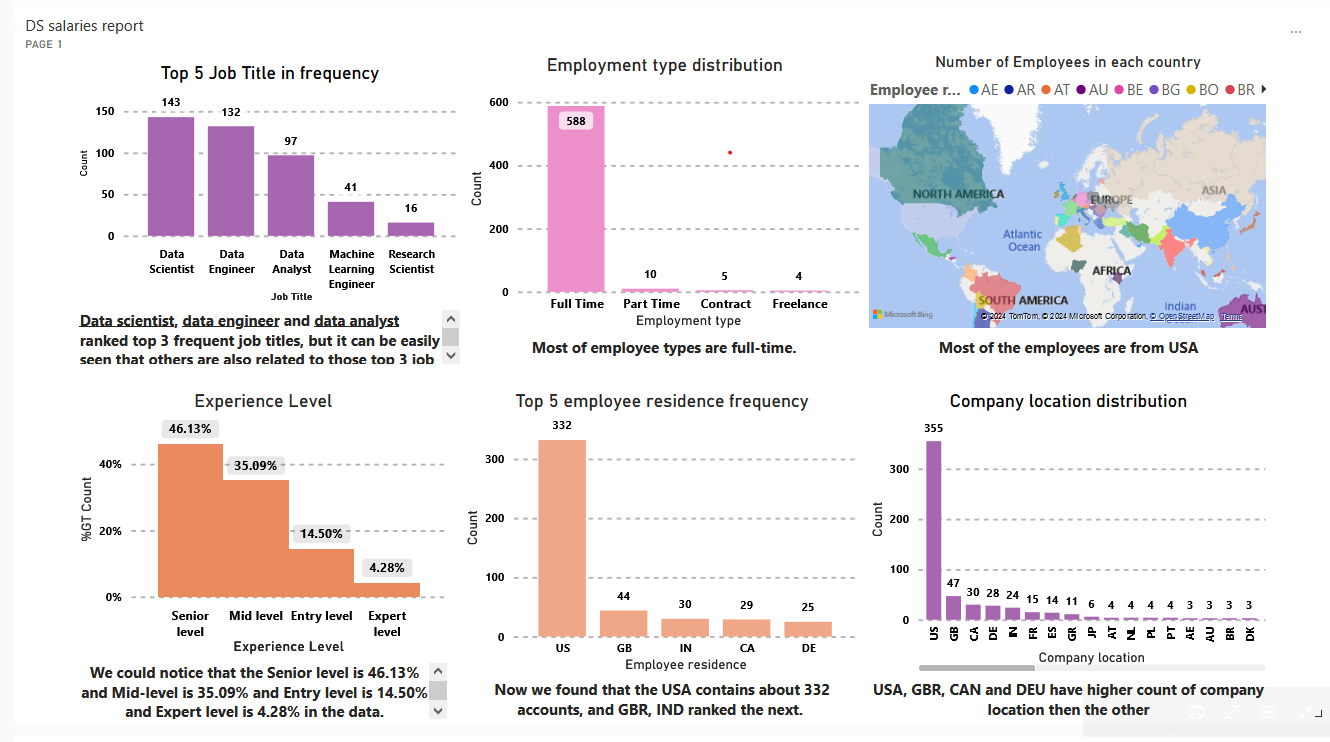

What the dashboard file says about the page in this screenshot:
{"tool":"powerbi","page":{"name":"Page 1","canvas":[1280,720],"ordinal":0},"visuals":[{"type":"clusteredColumnChart","title":"Experience Level","fields":{"Category":["ds_salaries.experience_level"],"Y":["CountNonNull(ds_salaries.experience_level)"]},"box":[0,360,403.2,289.4],"z":0},{"type":"lineClusteredColumnComboChart","title":"Top 5 Job Title in frequency","fields":{"Category":["ds_salaries.job_title"],"Y":["CountNonNull(ds_salaries.job_title)"]},"box":[0,8.6,417.6,263.5],"z":1000},{"type":"lineClusteredColumnComboChart","title":"Employment type distribution","fields":{"Category":["ds_salaries.employment_type"],"Y":["CountNonNull(ds_salaries.employment_type)"]},"box":[417.6,0,427.7,301],"z":2000},{"type":"filledMap","title":"Number of Employees in each country","fields":{"Category":["DS Salaries.employee_residence"],"Series":["DS Salaries.employee_residence"]},"box":[845.3,0,434.9,301],"z":3000},{"type":"lineClusteredColumnComboChart","title":"Top 5 employee residence frequency","fields":{"Category":["ds_salaries.employee_residence"],"Y":["CountNonNull(ds_salaries.employee_residence)"]},"box":[413.3,360,430.6,308.2],"z":4000},{"type":"clusteredColumnChart","title":"Company location distribution","fields":{"Category":["ds_salaries.company_location"],"Y":["CountNonNull(ds_salaries.company_location)"]},"box":[846.7,360,433.4,308.2],"z":5000},{"type":"textbox","box":[0,649.4,403.2,70.6],"z":6000},{"type":"textbox","box":[0,263.5,417.6,76.3],"z":7000},{"type":"textbox","box":[417.6,301,426.2,38.9],"z":8000},{"type":"textbox","box":[413.3,668.2,430.6,51.8],"z":9000},{"type":"textbox","box":[846.7,301,433.4,40.3],"z":10000},{"type":"textbox","box":[846.7,668.2,433.4,51.8],"z":11000}]}

Visuals, with their boxes on the page's 1280x720 design canvas (x1, y1, x2, y2). These are canvas units, not pixel positions in the 1330x742 screenshot, which may show the page scaled, cropped or inside an application window:
"Experience Level" clusteredColumnChart: x1=0 y1=360 x2=403 y2=649
"Top 5 Job Title in frequency" lineClusteredColumnComboChart: x1=0 y1=9 x2=418 y2=272
"Employment type distribution" lineClusteredColumnComboChart: x1=418 y1=0 x2=845 y2=301
"Number of Employees in each country" filledMap: x1=845 y1=0 x2=1280 y2=301
"Top 5 employee residence frequency" lineClusteredColumnComboChart: x1=413 y1=360 x2=844 y2=668
"Company location distribution" clusteredColumnChart: x1=847 y1=360 x2=1280 y2=668
textbox: x1=0 y1=649 x2=403 y2=720
textbox: x1=0 y1=264 x2=418 y2=340
textbox: x1=418 y1=301 x2=844 y2=340
textbox: x1=413 y1=668 x2=844 y2=720
textbox: x1=847 y1=301 x2=1280 y2=341
textbox: x1=847 y1=668 x2=1280 y2=720
